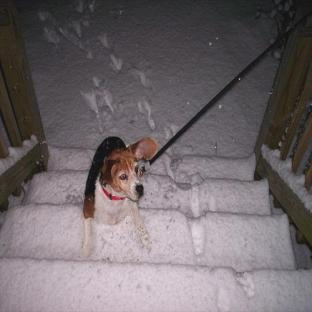Animal: (82, 136, 157, 255)
